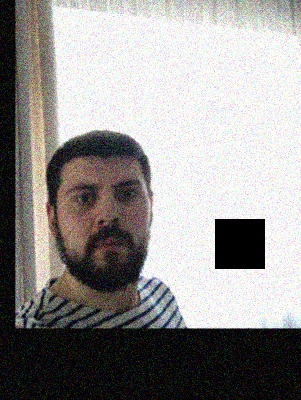without_mask: (55, 174, 150, 292)
